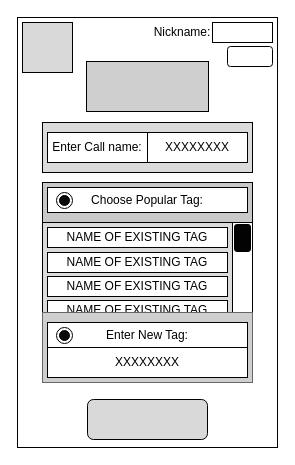
Some shapes in this 295 by 465 pixel diagram are drawn without their labels. Here are the shapes that lost their labels. From the top down, the centre of each, then its label:
At (x=47, y=47): "LOGO/ HOME".
At (x=249, y=56): "confirm".
At (x=147, y=86): "CREATE NEW CALL:".
At (x=147, y=419): "CREATE CALL!".
